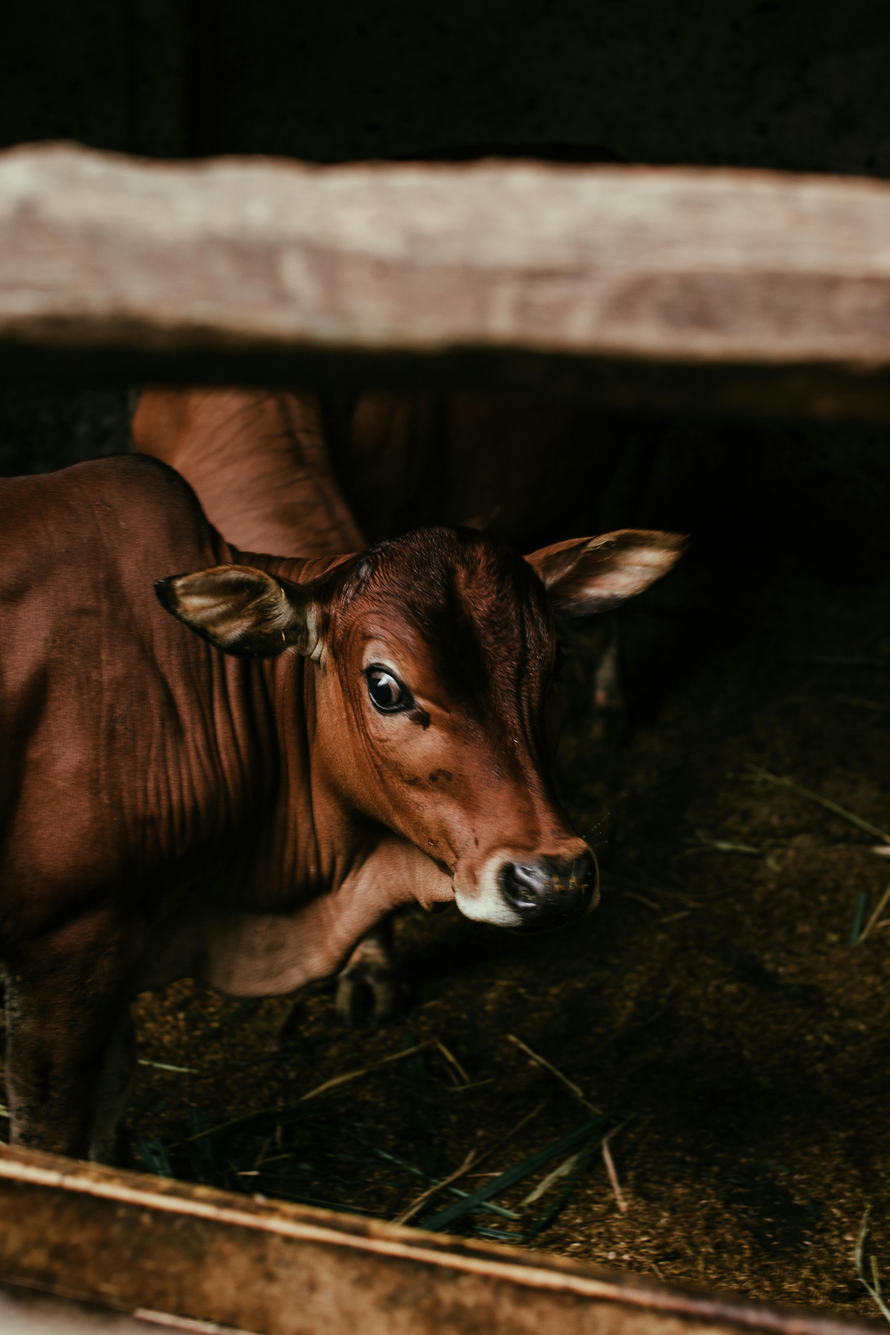bovino: (0, 451, 681, 1134)
